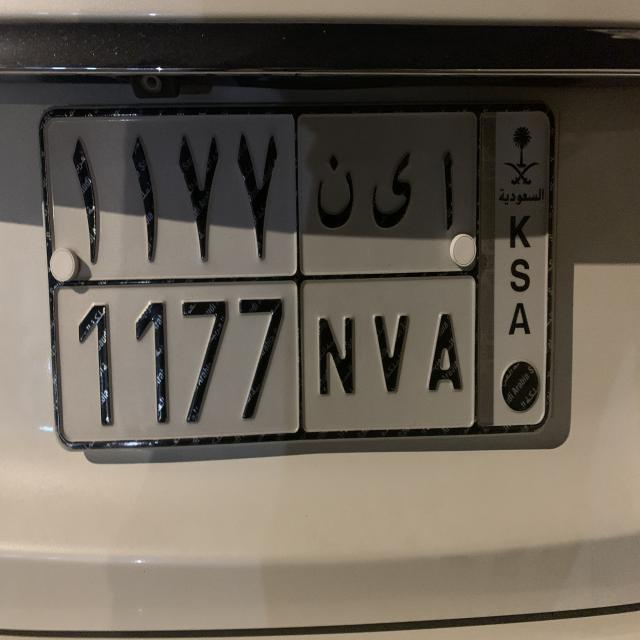license_plate: (36, 93, 562, 454)
